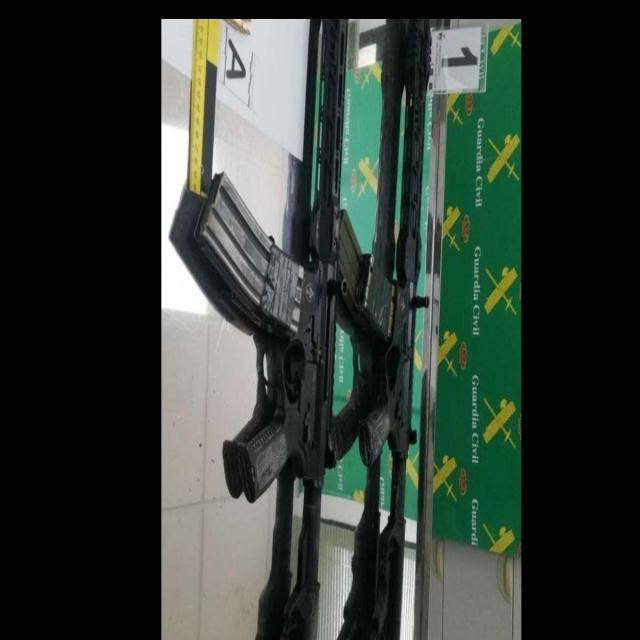weapon: (193, 16, 350, 640), (334, 19, 434, 640)
